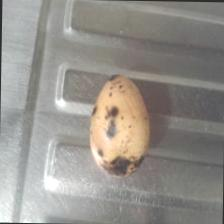Mango Overripe: (82, 74, 155, 180)
